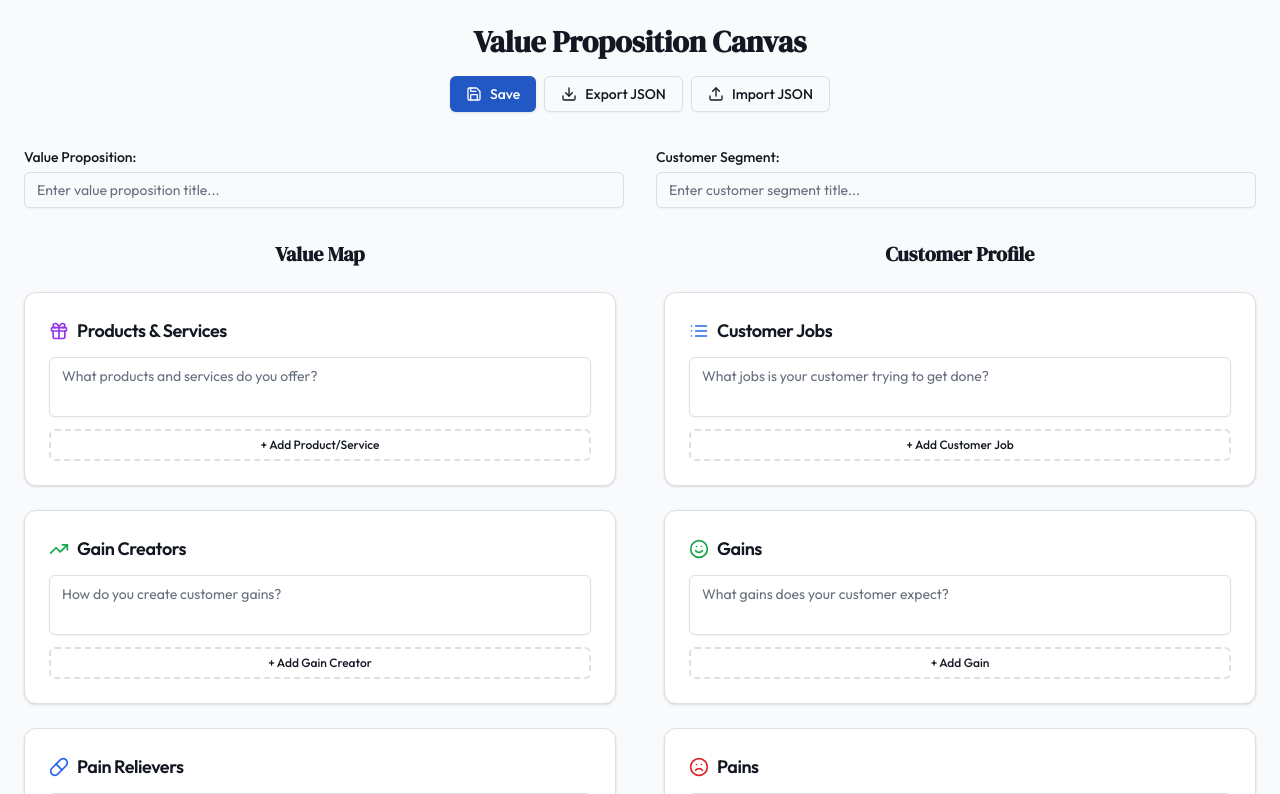
Scenario: ValuePropositionCanvas › Value Map Management › adds new product/service item
The image size is (1280, 794).
Step 1. Click the button "+ Add Product/Service" → click(320, 445), box [49,429,591,461]
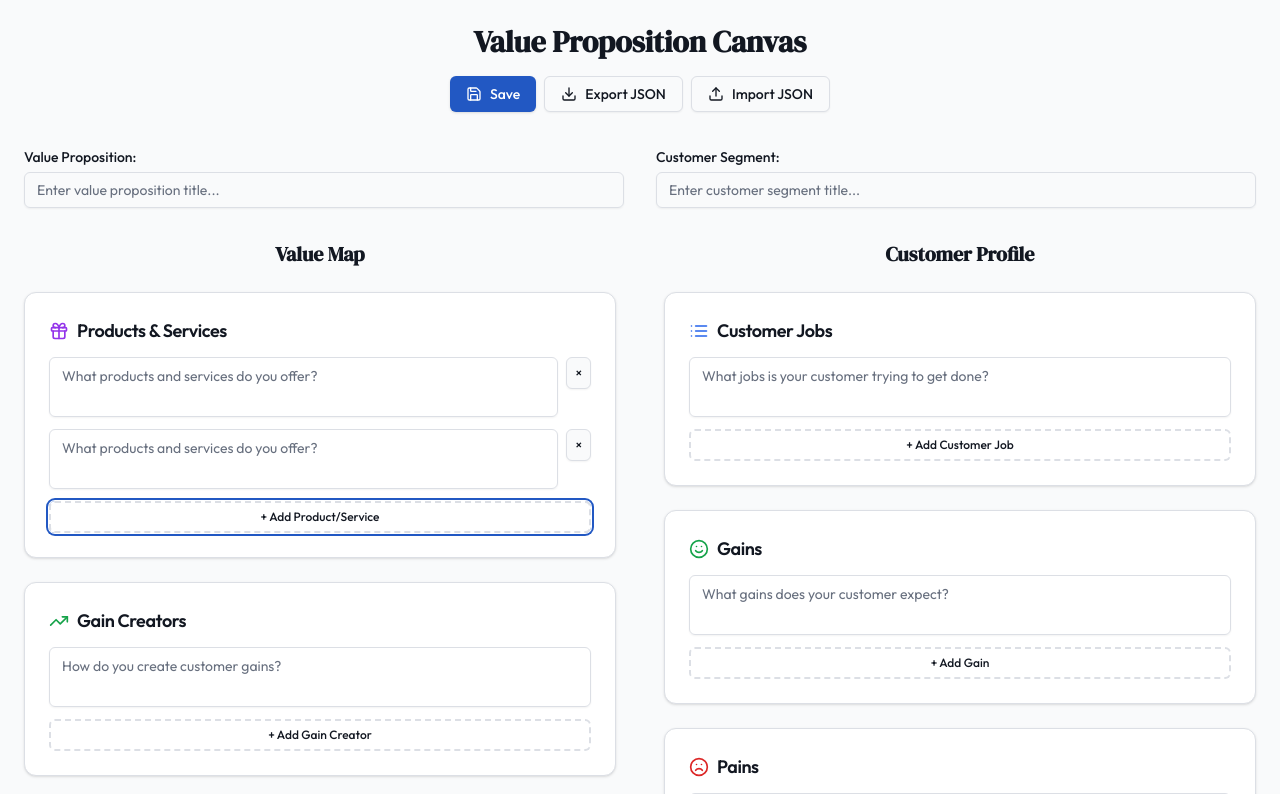
Result: the number of text boxes with placeholder "What products and services do you offer?" is 2 at [49,357,558,417]; [49,429,558,489]
